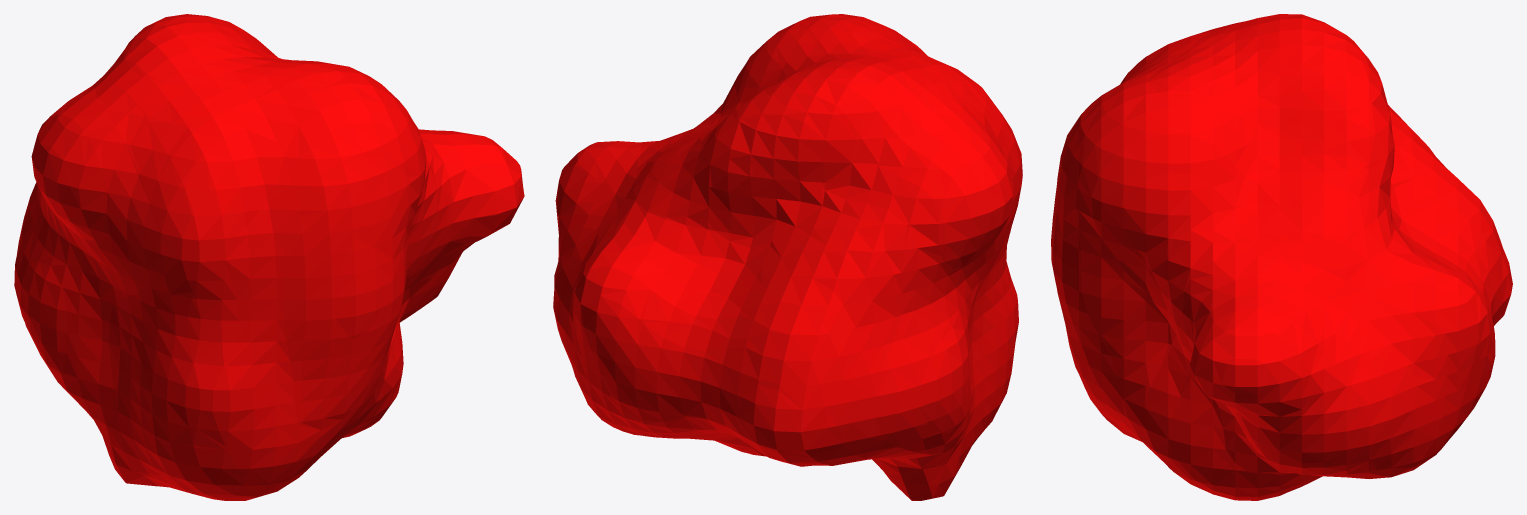
The model's file is yoaC_coarse.dae.
3 views of the same model, side by side, from view 1: azimuth 30°, elevation 25°; view 2: azimuth 150°, elevation 25°; view 3: azimuth 270°, elevation 25° (orthographic).
Parts seen in each view (by area): view 1: yoaC; view 2: yoaC; view 3: yoaC.
Boxes of the visible parts, <box> form: yoaC: <box>14,14,524,500</box>; yoaC: <box>553,14,1022,500</box>; yoaC: <box>1051,14,1512,500</box>.
Bounding box in the file's own units: 39.61 × 35.81 × 34.82.
